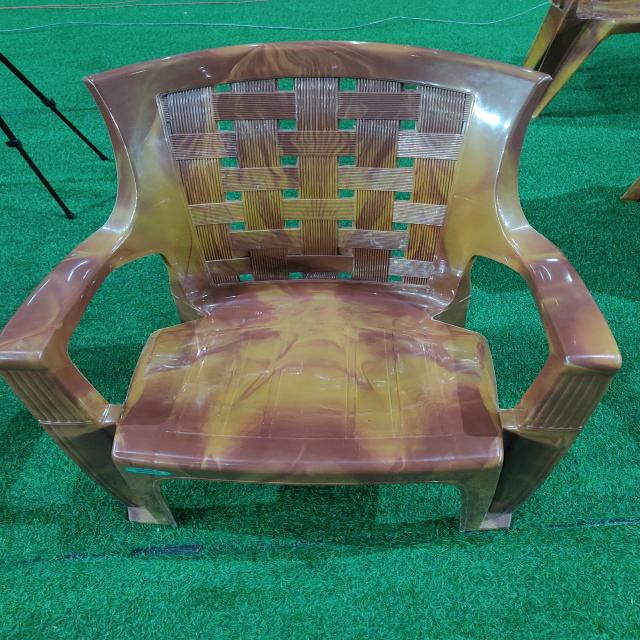Chair: (0, 40, 622, 532)
